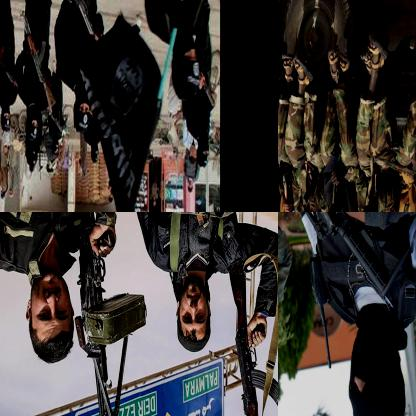rifle: (74, 227, 149, 415), (278, 212, 409, 300), (227, 261, 277, 415), (18, 6, 56, 107), (54, 0, 106, 50), (371, 150, 415, 184), (0, 27, 18, 87), (355, 172, 381, 211), (322, 172, 348, 211)
